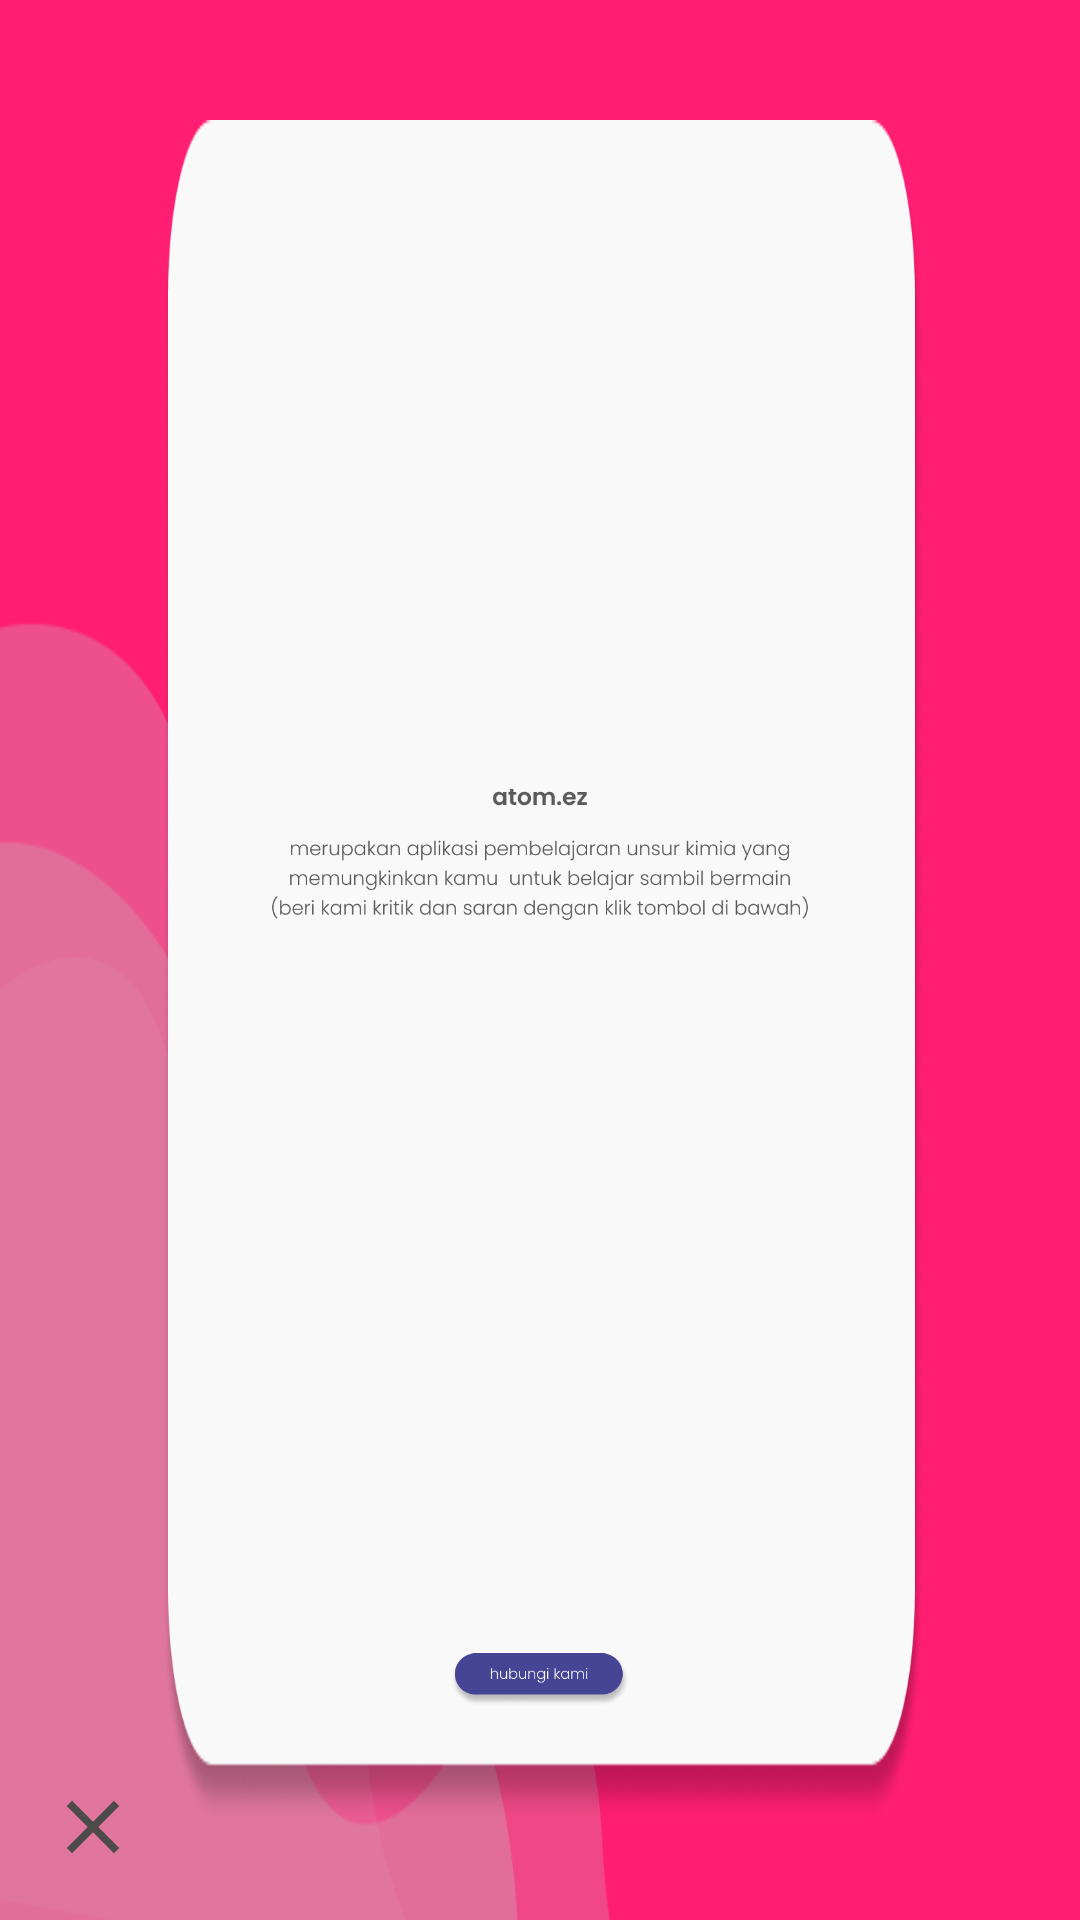

Where icons sit on this 1080w x 1920h app screen, as [x1=x1, y1=y1, x2=x2, y2=y2]:
close: [x1=67, y1=1801, x2=119, y2=1853]
